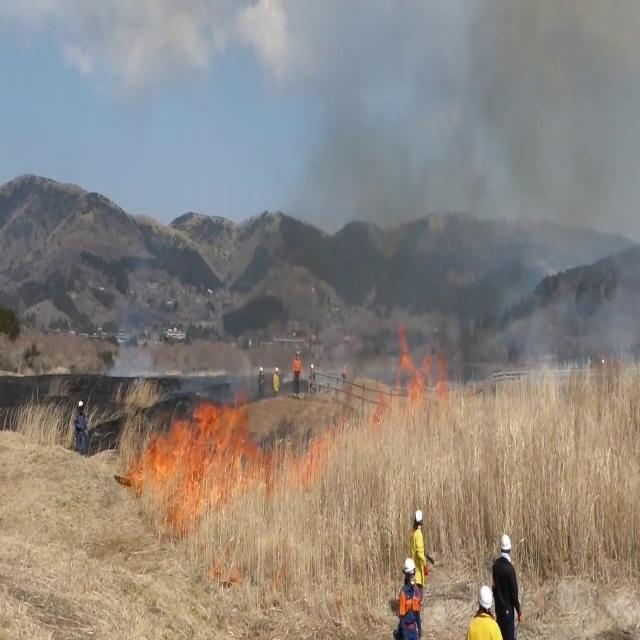Fire: (129, 390, 266, 518), (391, 314, 448, 406)
Smoke: (349, 1, 640, 394)
